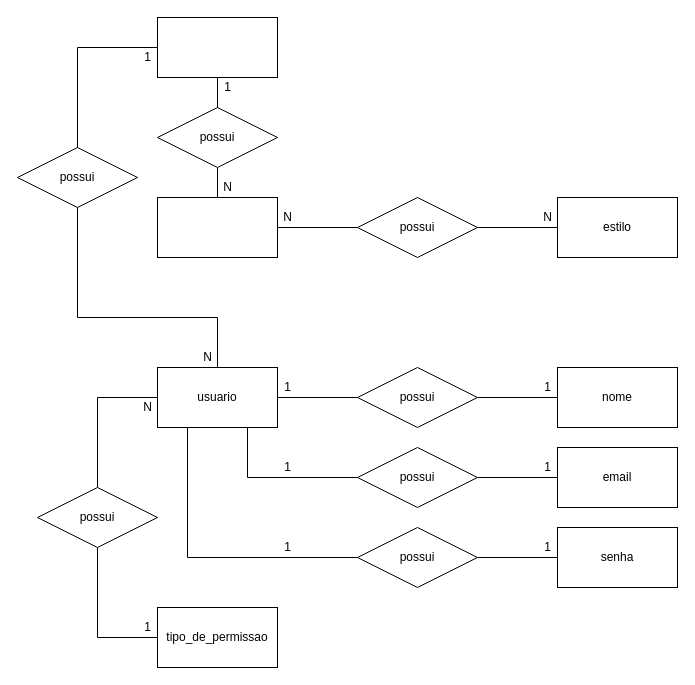
This 695x685 diagram has some shape labels left out. Here are the shapes that lost their labels. From the top down, the centre of each, then its label:
At point (217, 47): "plataforma(optus)".
At point (217, 227): "album".
